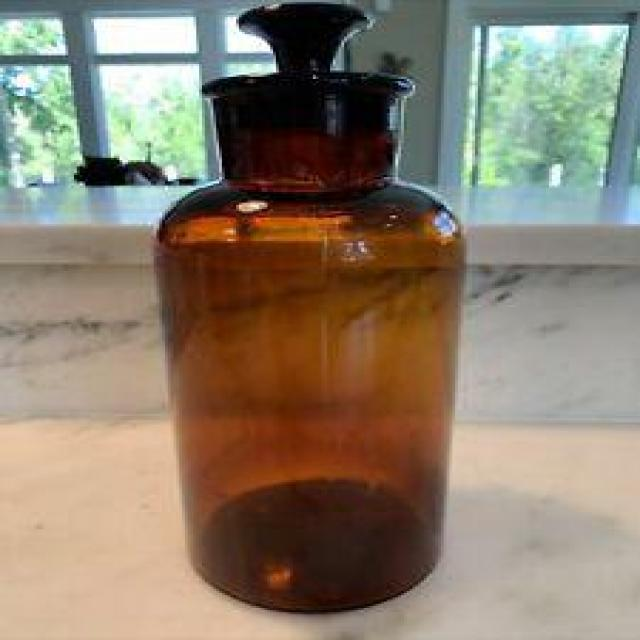non-organic waste: (145, 0, 472, 617)
